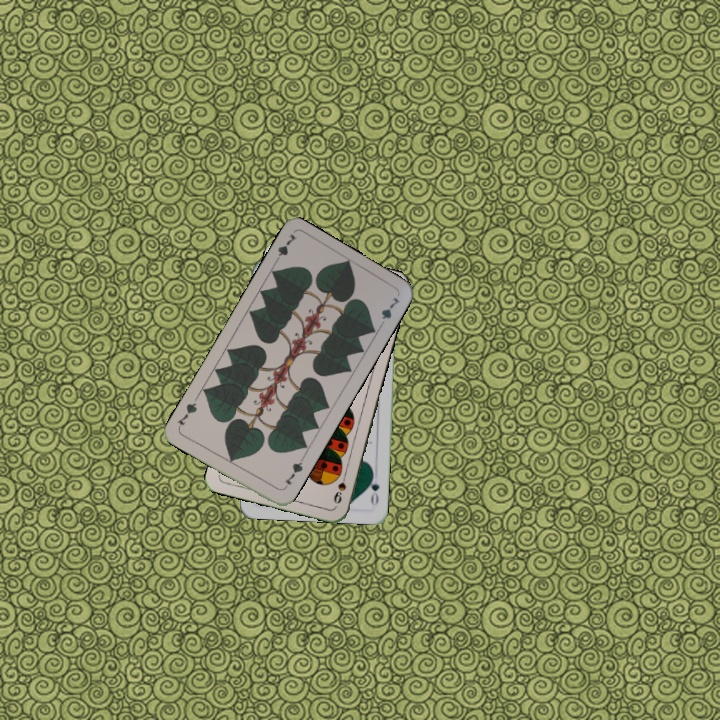G7: (270, 230, 299, 267), (279, 455, 306, 492)
GO: (365, 468, 382, 507)
S9: (330, 468, 349, 506)
